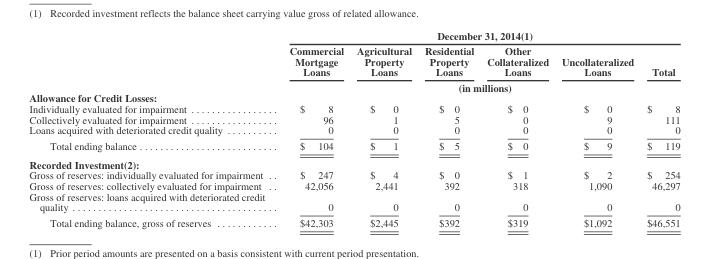table: (28, 29, 679, 228)
table column: (28, 29, 276, 228), (554, 29, 639, 228), (479, 29, 554, 228), (276, 29, 349, 228), (349, 29, 417, 228), (417, 29, 479, 228), (639, 29, 679, 228)
table column header: (28, 29, 679, 92)
table projected row header: (28, 154, 679, 169), (28, 92, 679, 103)
table row: (28, 43, 679, 79), (28, 190, 679, 214), (28, 137, 679, 154), (28, 154, 679, 169), (28, 29, 679, 43), (28, 214, 679, 228), (28, 79, 679, 92), (28, 124, 679, 137), (28, 92, 679, 103), (28, 113, 679, 124), (28, 169, 679, 180), (28, 103, 679, 113), (28, 180, 679, 190)
table spanning cell: (276, 29, 679, 43), (276, 79, 679, 92)
